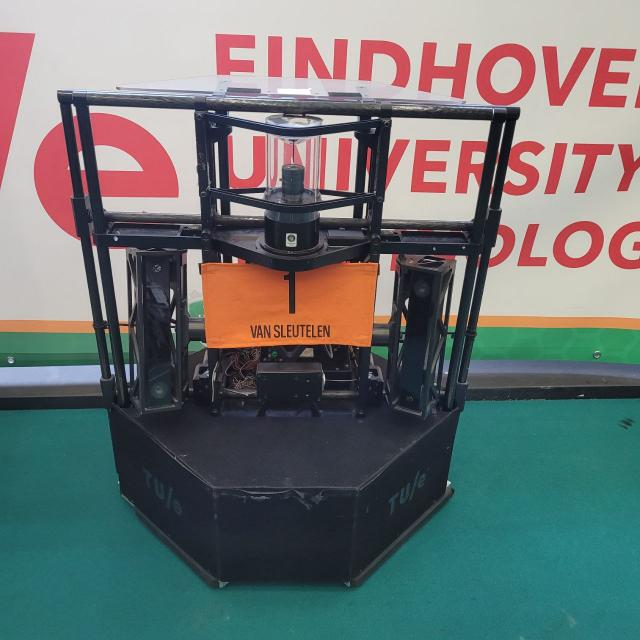robot: (46, 53, 532, 596)
